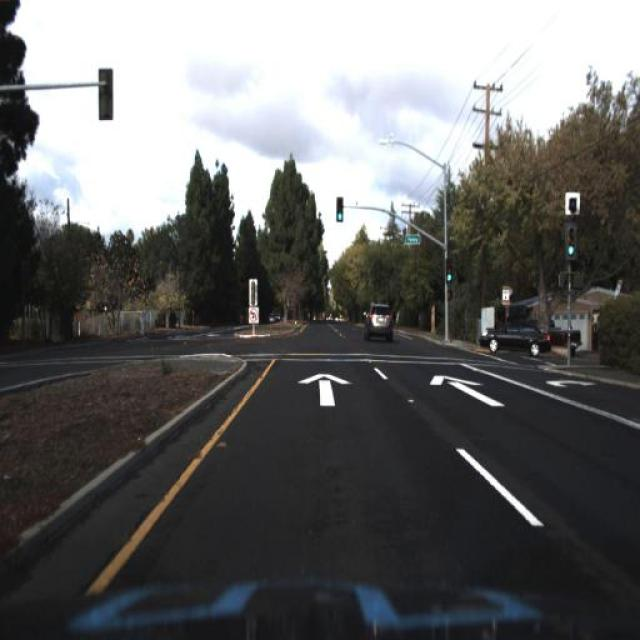car: (480, 314, 551, 357), (548, 316, 588, 350), (365, 297, 396, 339)
trafficLight-GreenLeft: (442, 256, 456, 288), (333, 191, 345, 223)
